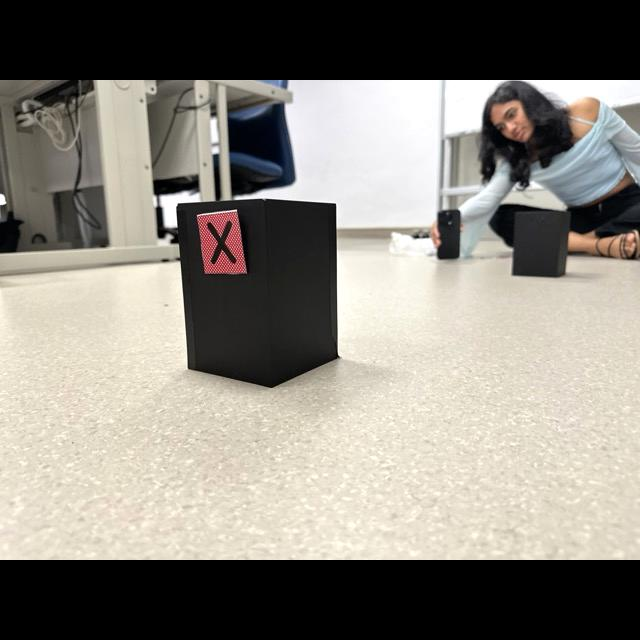X: (207, 221, 236, 264)
